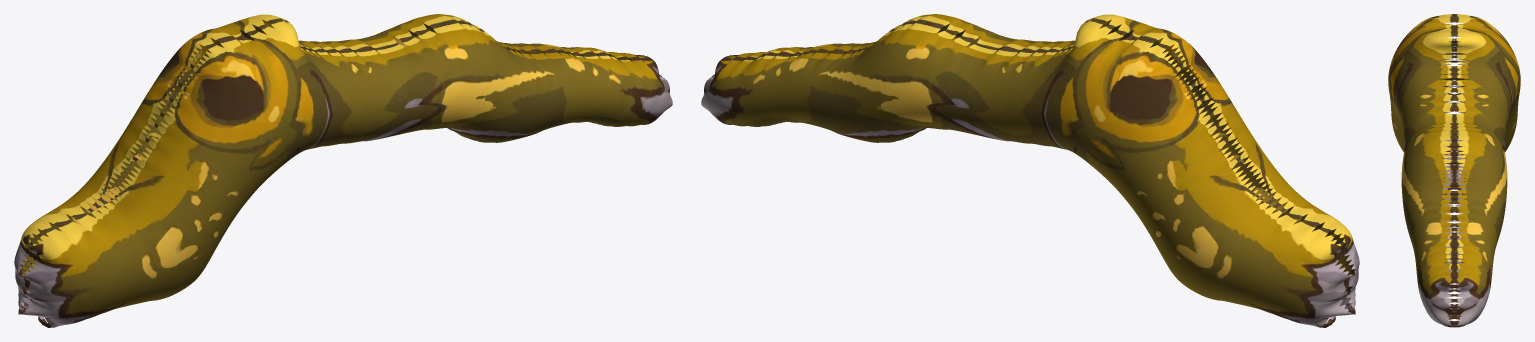
The model's file is fallen_trunk.glb.
3 views of the same model, side by side, from view 1: azimuth 30°, elevation 25°; view 2: azimuth 150°, elevation 25°; view 3: azimuth 270°, elevation 25° (orthographic). The views are drawn at different scales.
Visible parts, largest first — view 1: fallen_trunk; view 2: fallen_trunk; view 3: fallen_trunk.
Part boxes in pixels (x1,y1,x2,y2): fallen_trunk: (14, 14, 672, 327); fallen_trunk: (701, 14, 1359, 327); fallen_trunk: (1388, 14, 1520, 327).
Bounding box in the file's own units: 0.9882 × 0.358 × 0.2172.
Materials: 1 (1 with a texture image).
